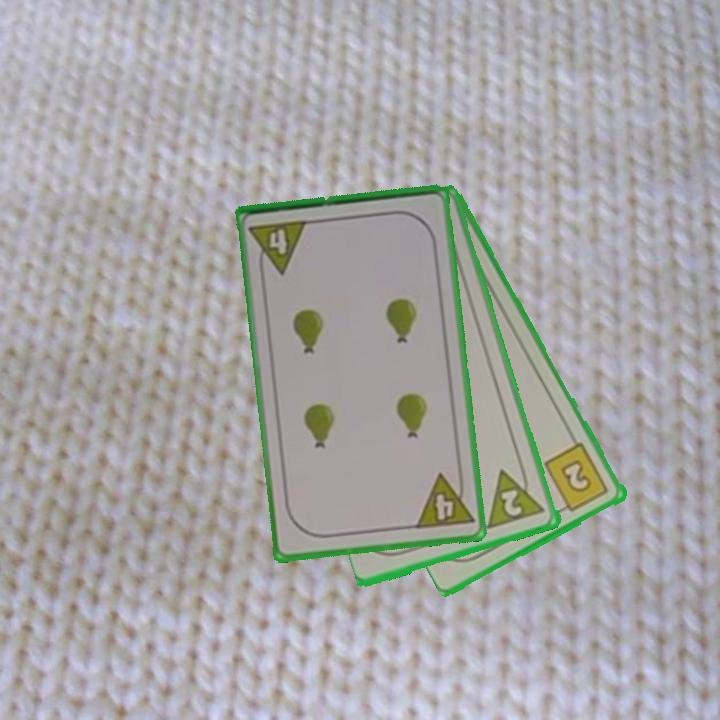2b: (541, 439, 612, 516)
2p: (485, 460, 549, 532)
4p: (412, 468, 477, 532), (246, 216, 311, 278)
